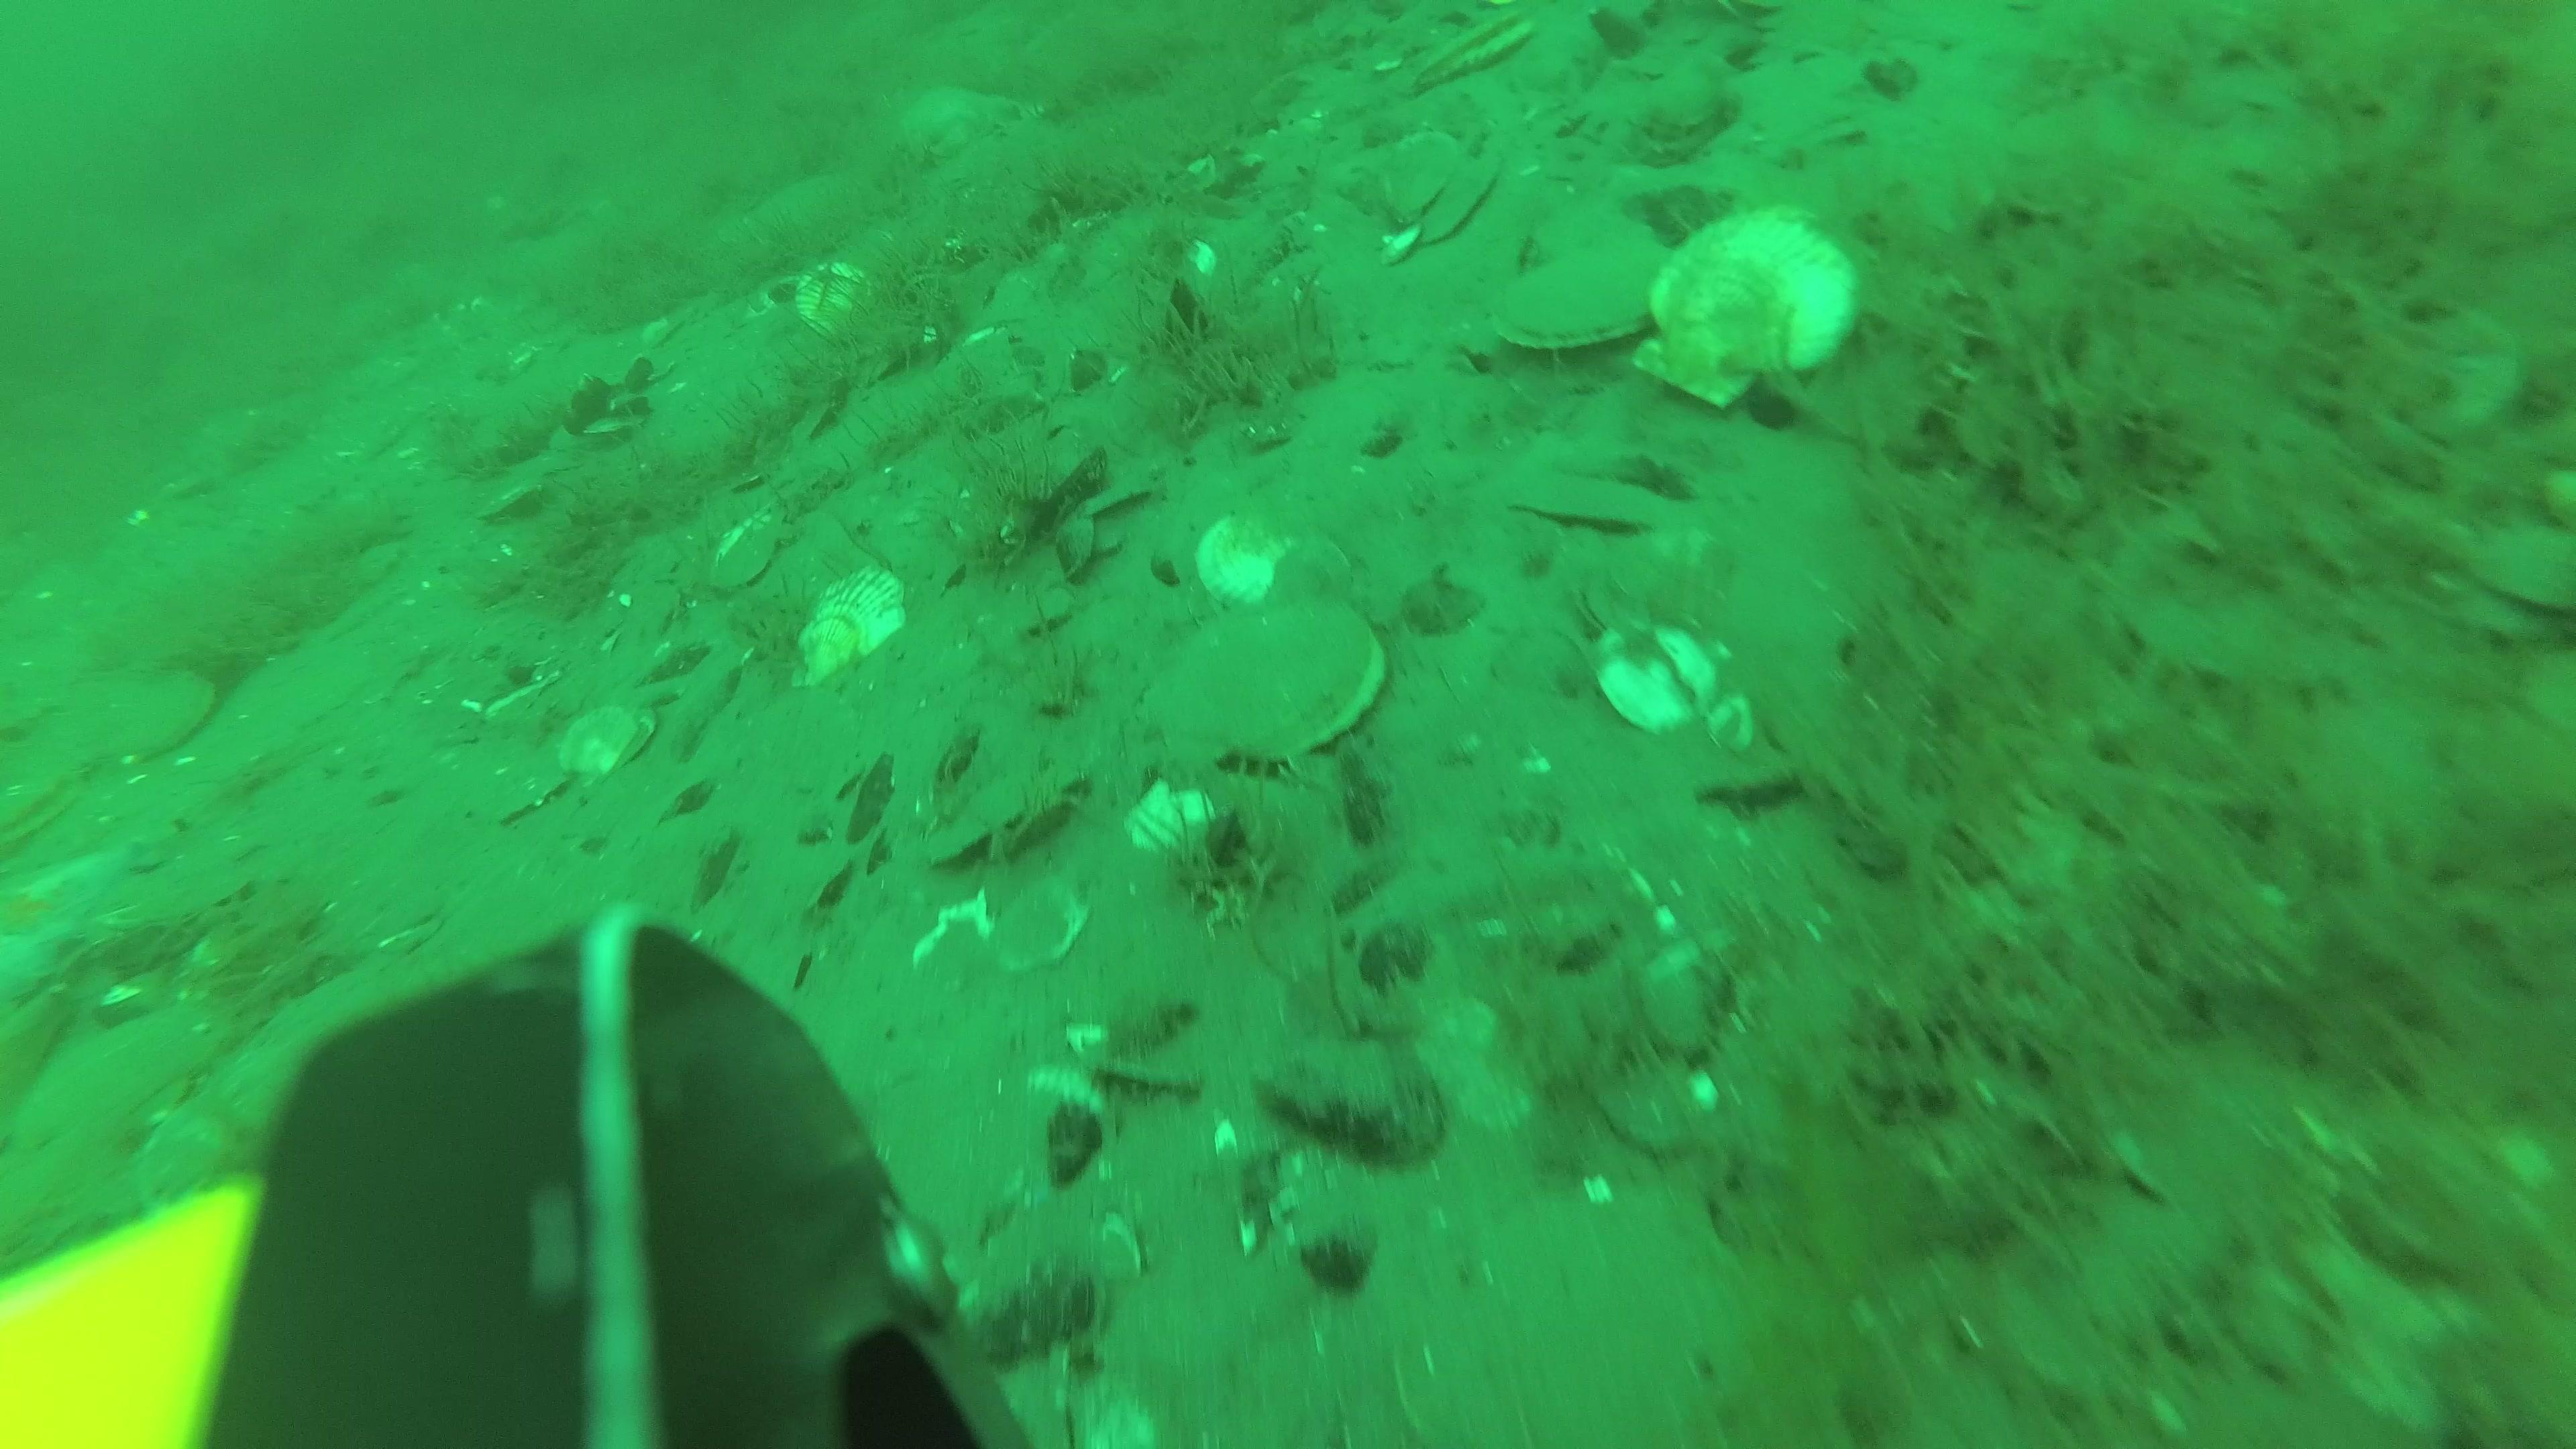scallop: (1633, 207, 1849, 398), (1155, 605, 1378, 777), (1499, 230, 1661, 347), (1191, 504, 1345, 602), (1592, 621, 1714, 738), (794, 571, 911, 683), (113, 658, 219, 763), (1414, 14, 1537, 92), (1410, 156, 1493, 249), (5, 757, 81, 855), (556, 706, 653, 782), (713, 497, 800, 582), (1269, 545, 1359, 625), (1385, 136, 1456, 223), (800, 267, 869, 336)
starfish: (5, 839, 117, 1010), (895, 81, 1021, 152)
